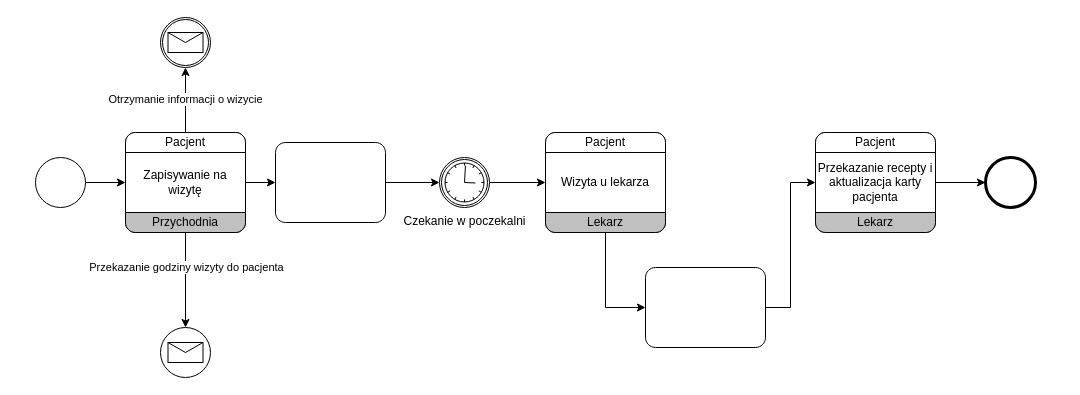
The diagram is 1080 pixels wide and 395 high, and some of its shapes have lost their labels. Each missing label, with the box of its shape:
Diagnoza i wypisanie recepty: (644, 266, 766, 348)
Przygotowanie karty pacjenta: (274, 142, 386, 222)
Zakończenie wizyty: (984, 156, 1036, 208)
Zapis na wuzytę: (34, 156, 86, 208)
